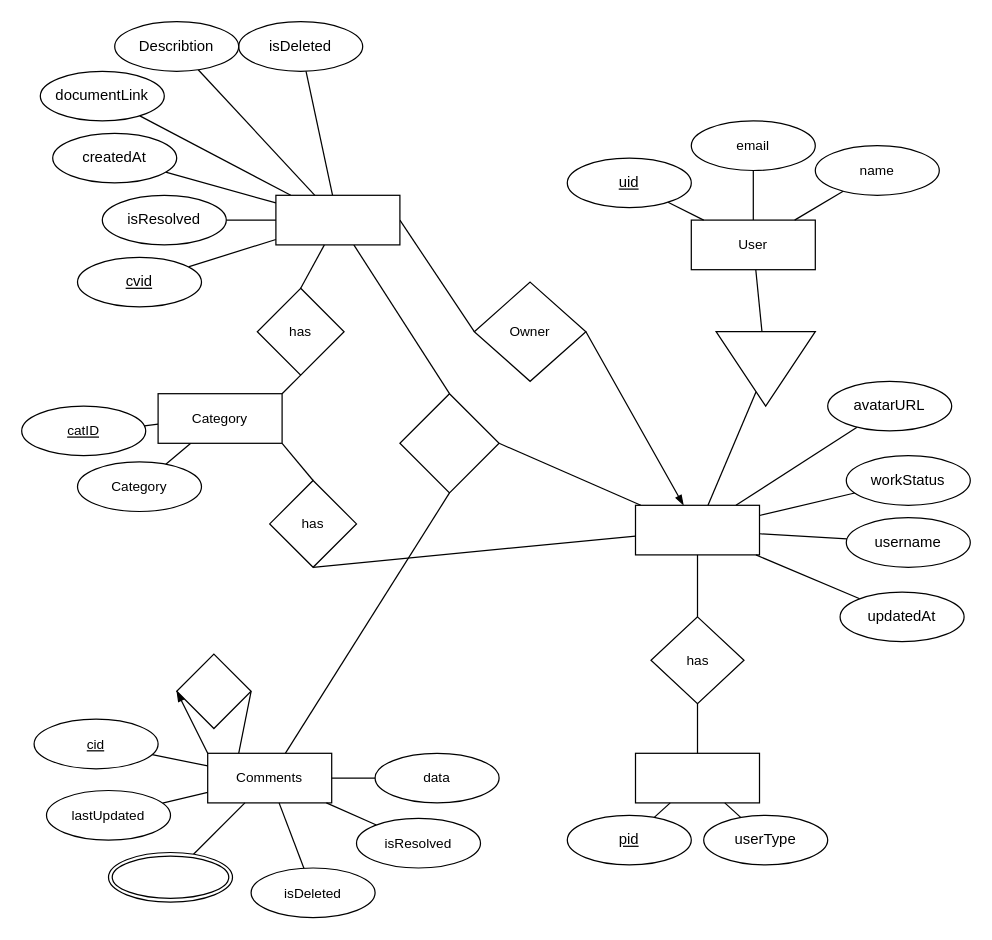
Image size: 992x940. Some labels were removed from this diagram. The shapes that lost their labels are listed below. From the top down, each one's centre as x and y in pixels, then its label:
(x=337, y=219): CV
(x=765, y=368): ISA
(x=449, y=442): CommentOn
(x=697, y=529): Profile
(x=213, y=690): Parent
(x=697, y=777): Permissions
(x=169, y=876): upvotes
